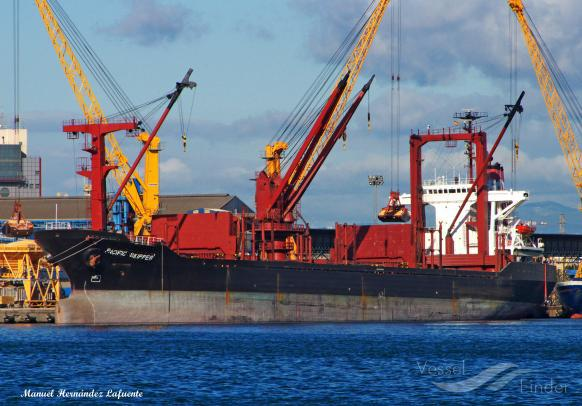OCR: (100, 241, 156, 263)
